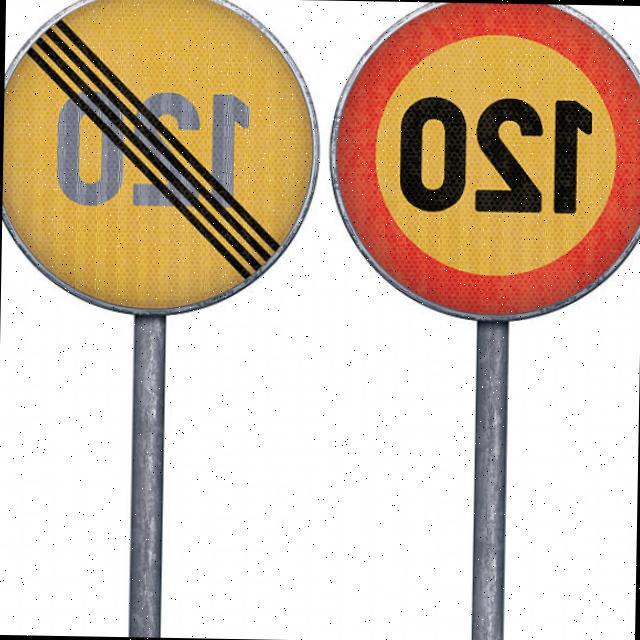speed_limit_120: (327, 0, 640, 326)
